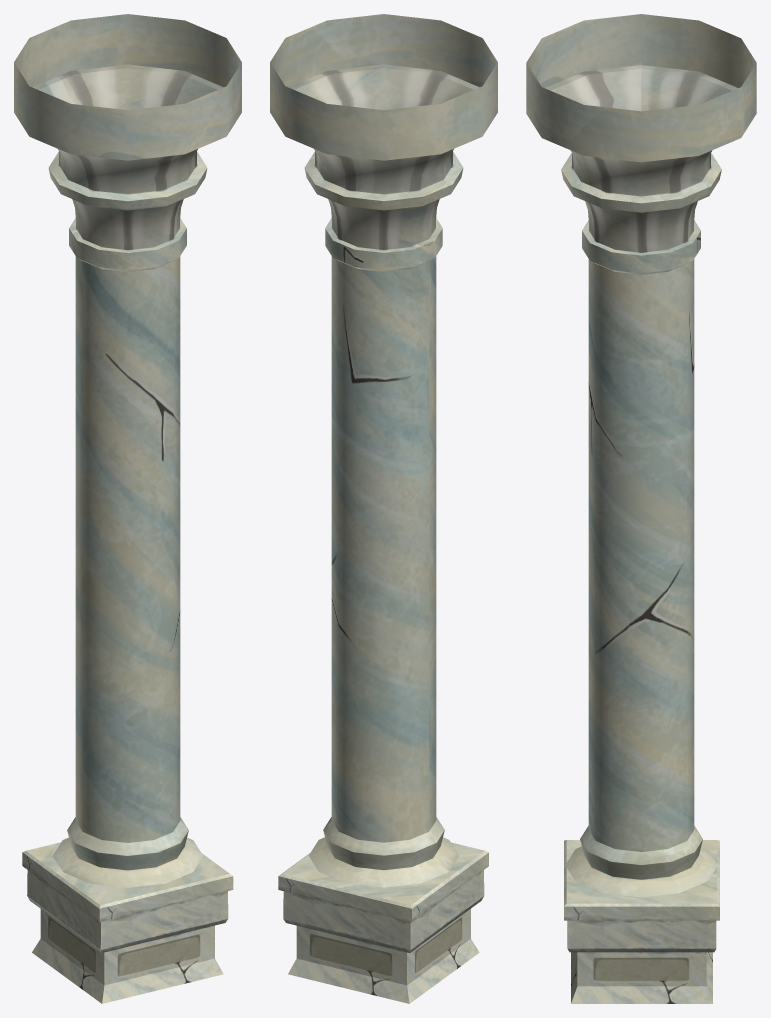
The model's file is pillar 3.fbx.
3 views of the same model, side by side, from view 1: azimuth 30°, elevation 25°; view 2: azimuth 150°, elevation 25°; view 3: azimuth 270°, elevation 25° (orthographic).
Visible parts, largest first — view 1: pillar.003; view 2: pillar.003; view 3: pillar.003.
Boxes of the visible parts, x1=… form: pillar.003: x1=14, y1=14, x2=241, y2=1003; pillar.003: x1=270, y1=14, x2=497, y2=1003; pillar.003: x1=526, y1=14, x2=756, y2=1003.
Size of the model in its own units: 190 by 829 by 190.
